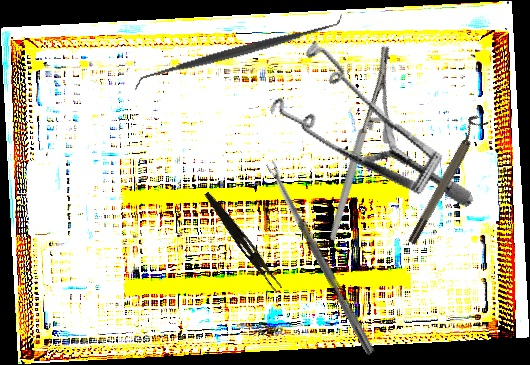Dressing Forceps: (199, 190, 286, 293)
Fixation Ring: (400, 112, 489, 247)
Needle Holder: (272, 41, 445, 243)
Spatula Surgical: (127, 11, 349, 93)
Speculum: (252, 7, 475, 262)
Surgical Spoon: (265, 160, 377, 356)
